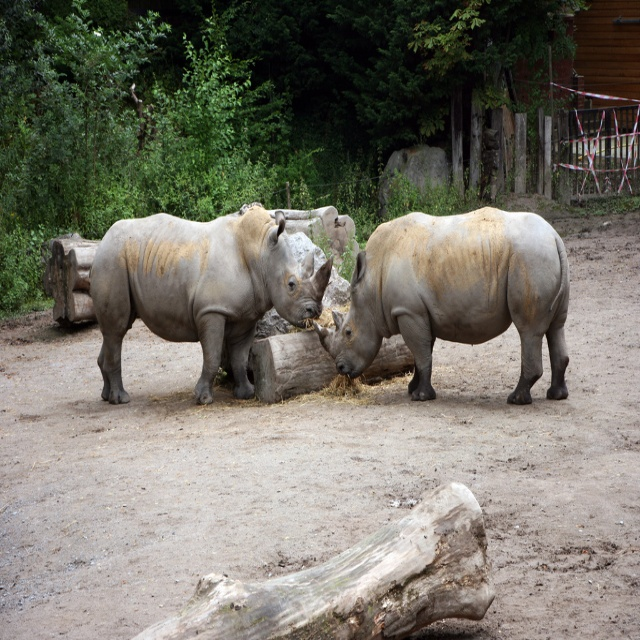Rhinoceros: (308, 199, 574, 406), (82, 196, 336, 406)
